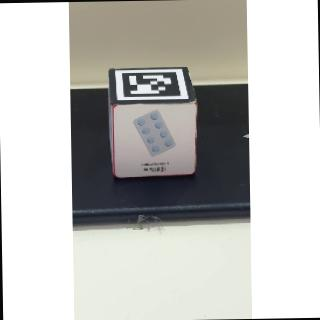Tablet: (113, 104, 199, 177)
